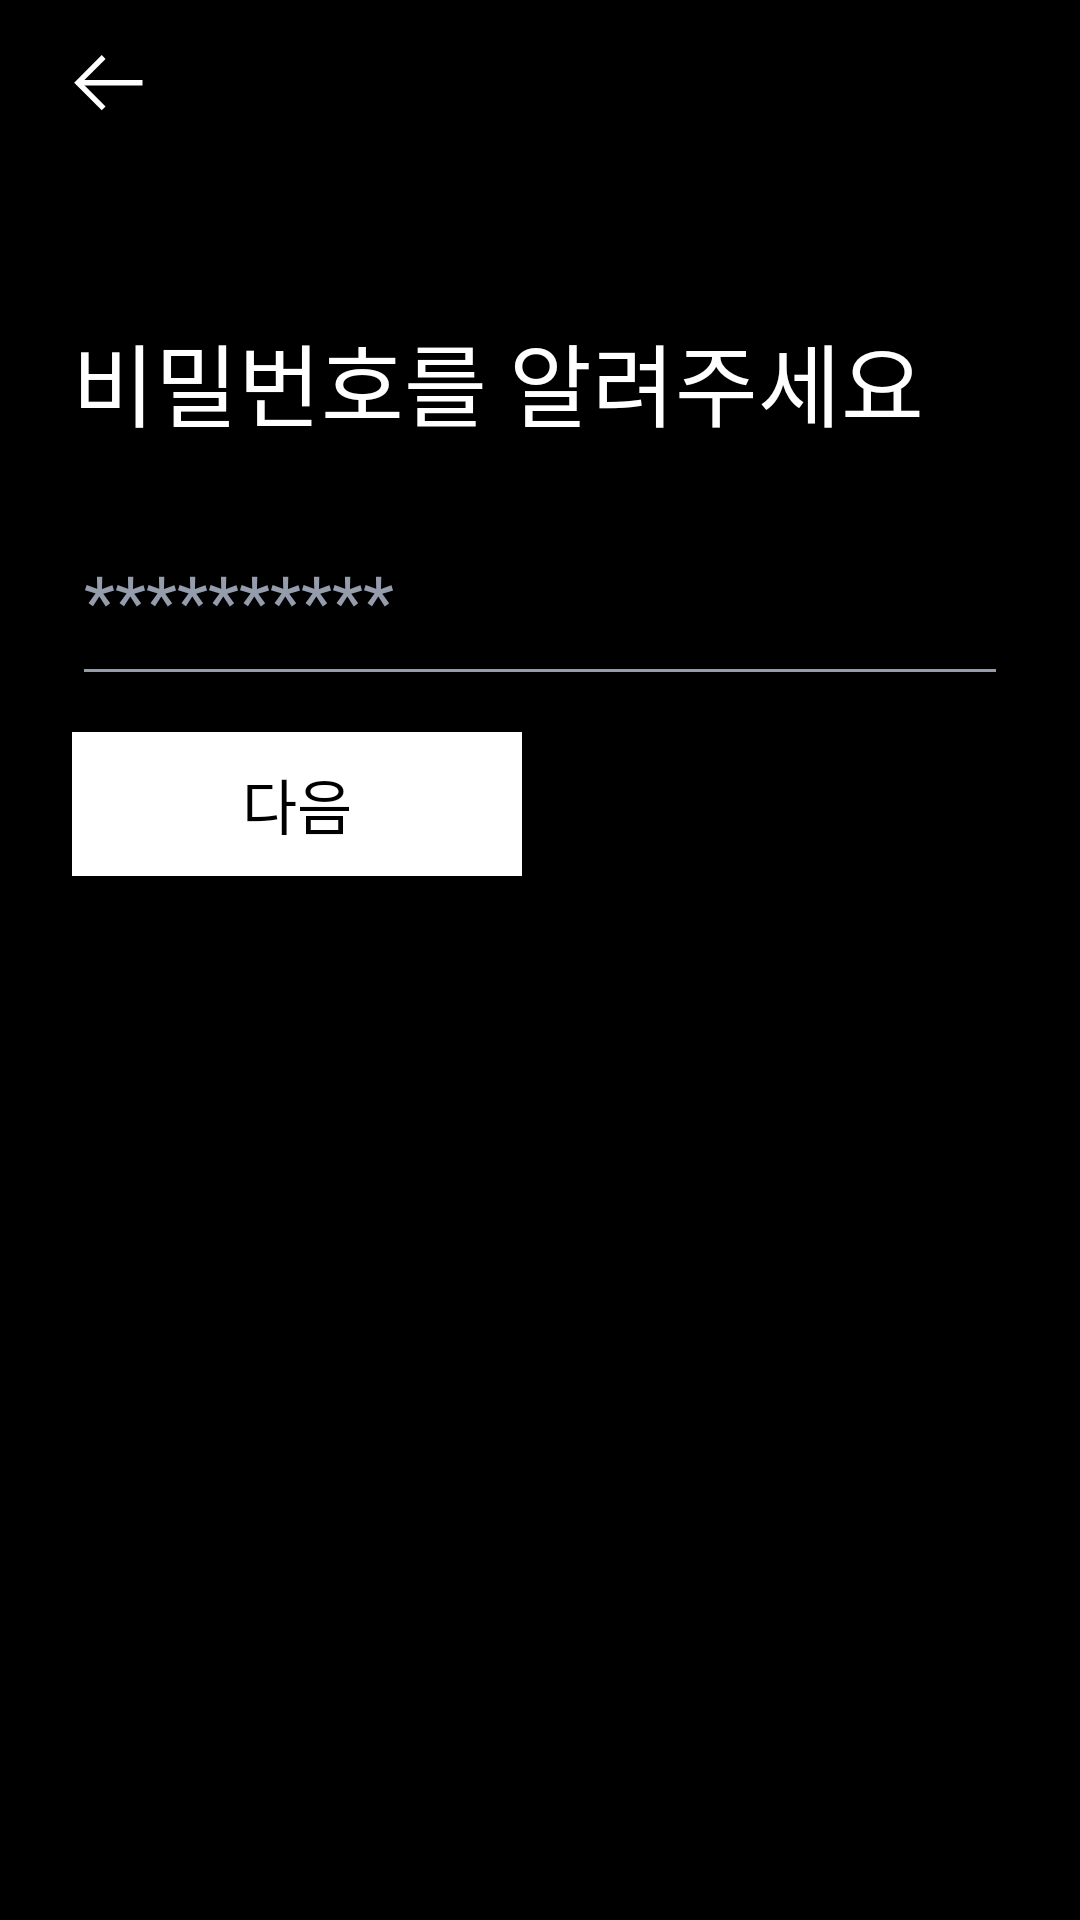

Icon bounding boxes for this 1080px×1920px phone screenshot, format (x1, y1, x2, y2):
back: (74, 55, 143, 110)
